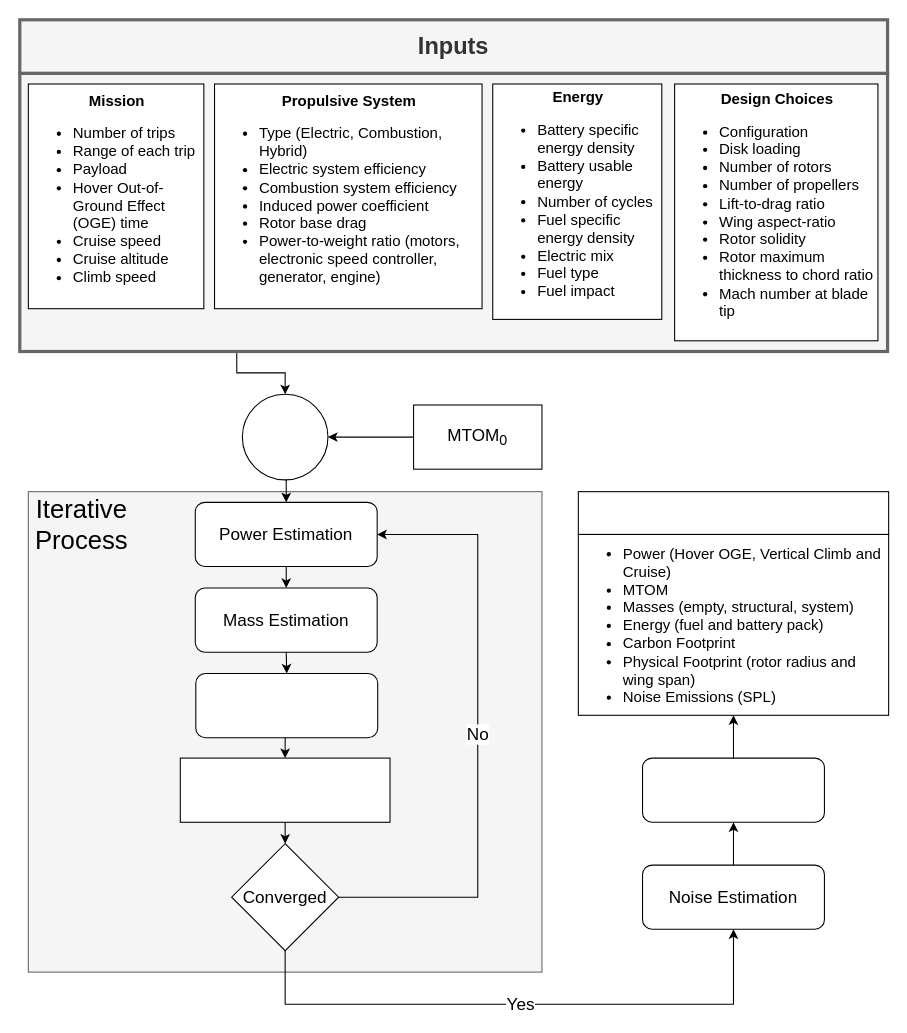
Some shapes in this 907 by 1033 pixel diagram are drawn without their labels. The box of each missing label's shape, as (x1, y1, x2, y2) in pixels:
Energy Estimation: (195, 672, 378, 738)
Environmental Impact Estimation: (641, 757, 824, 822)
Maximum Take-Off Mass (MTOM): (179, 757, 390, 822)
Outputs: (577, 491, 889, 534)
Start: (241, 393, 328, 480)
